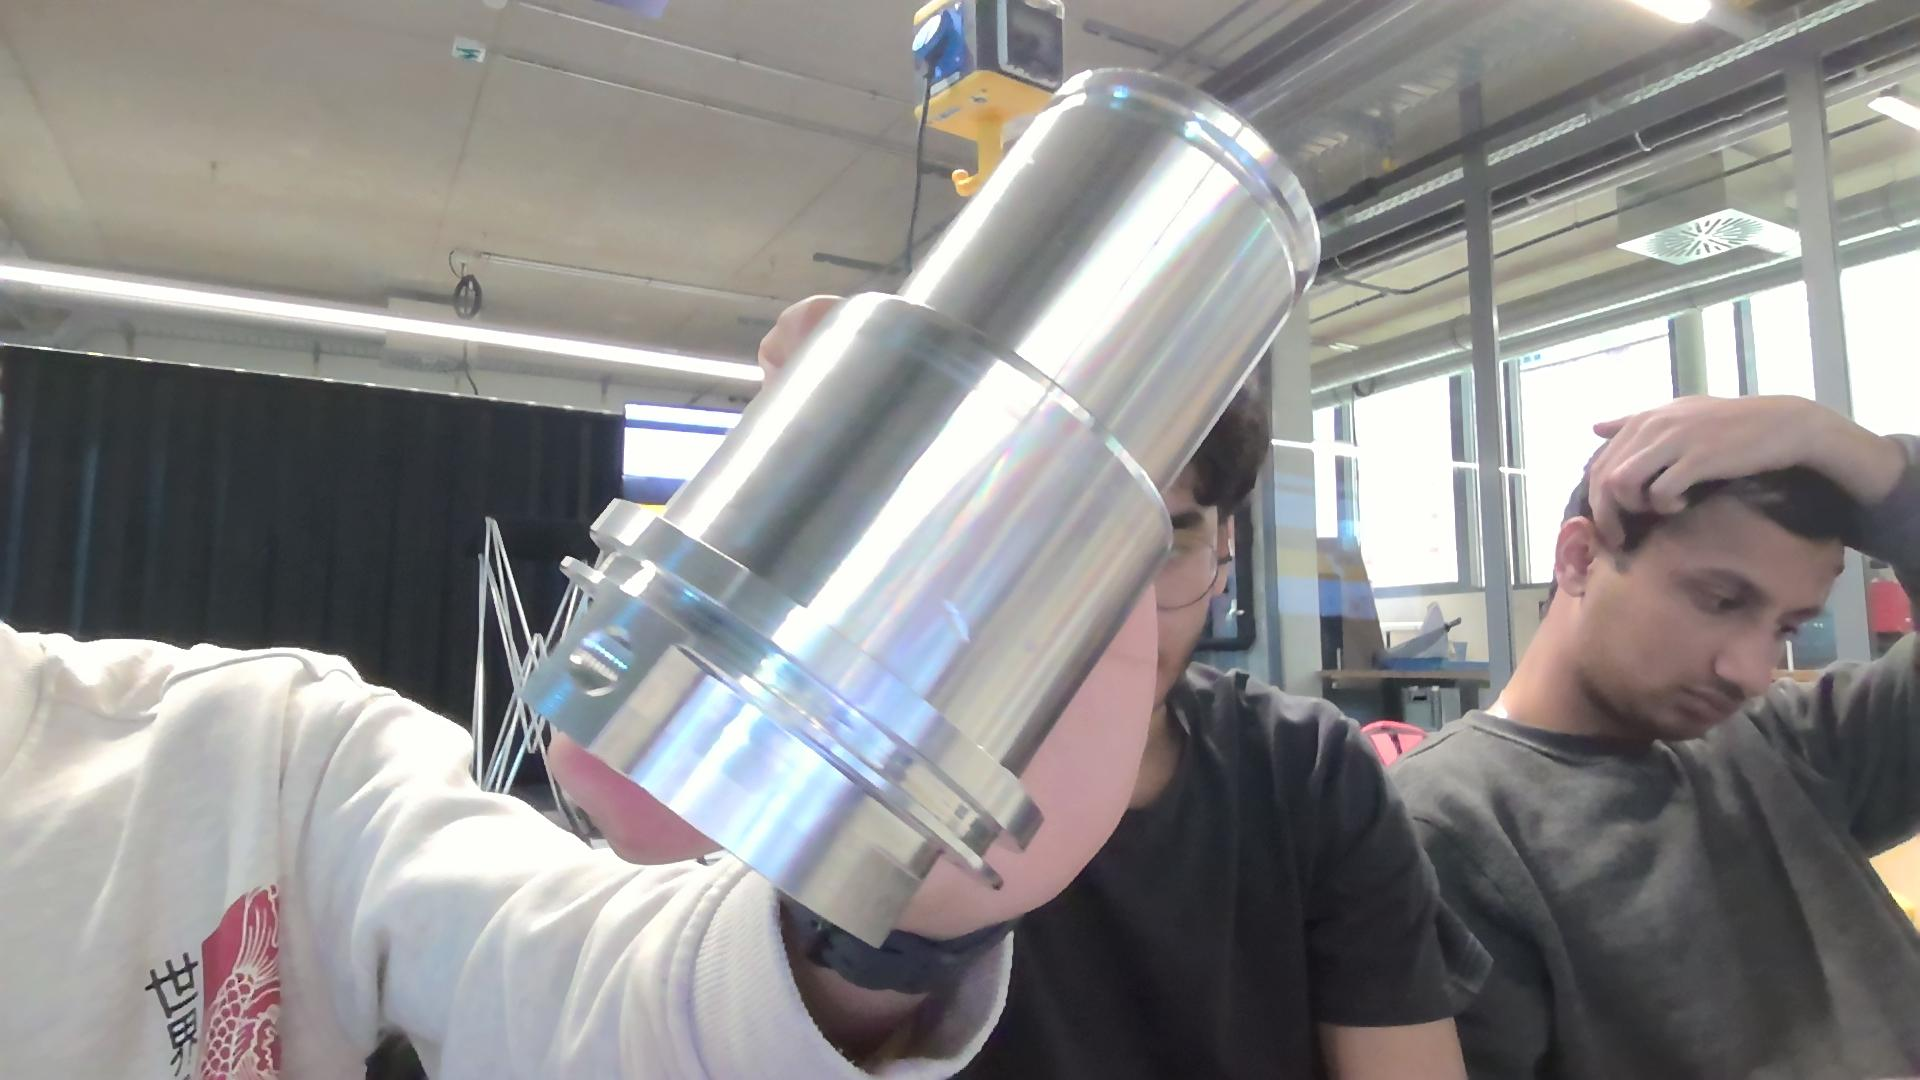objects: (514, 51, 1341, 971)
